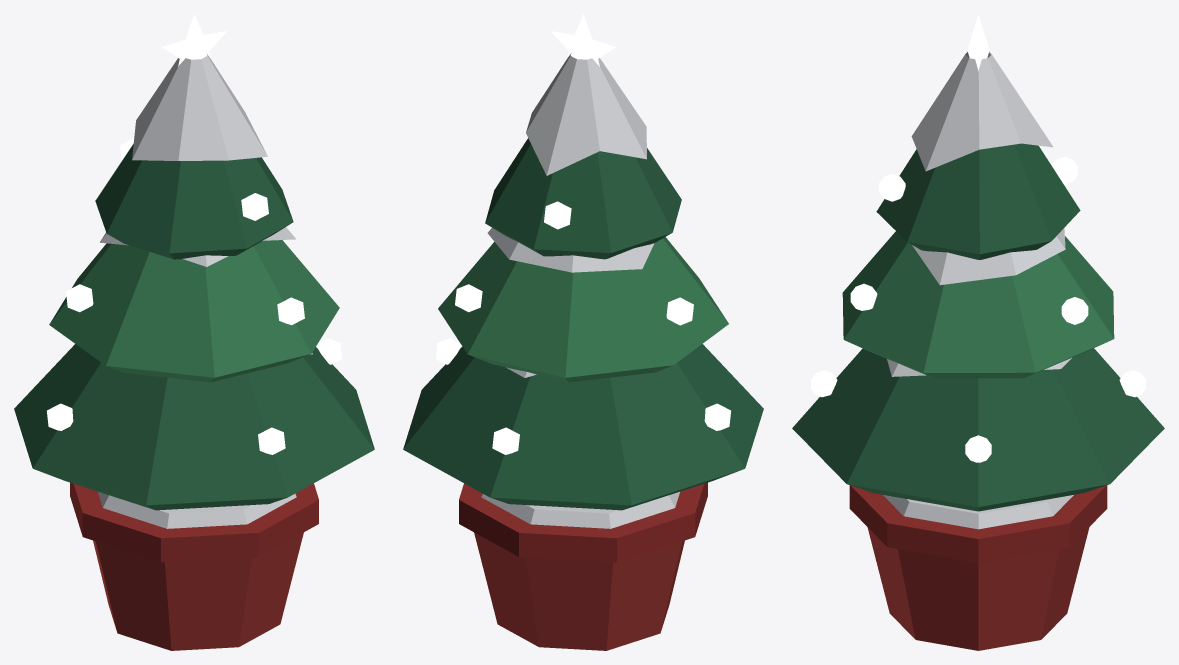
File: xmas-tree-small.glb
The picture shows the model from 3 angles, left to right: view 1: azimuth 30°, elevation 25°; view 2: azimuth 150°, elevation 25°; view 3: azimuth 270°, elevation 25°; orthographic projection.
Parts seen in each view (by area): view 1: xmas-tree-small; view 2: xmas-tree-small; view 3: xmas-tree-small.
Boxes of the visible parts, x1,y1,x2,y2 form: xmas-tree-small: (14,14,374,650); xmas-tree-small: (403,14,763,650); xmas-tree-small: (792,14,1164,650).
Size of the model in its own units: 0.84 by 1.49 by 0.84.
